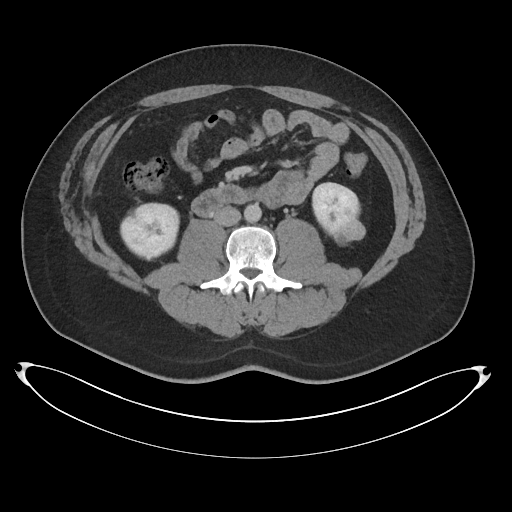Lesion: (338, 218, 368, 242)
